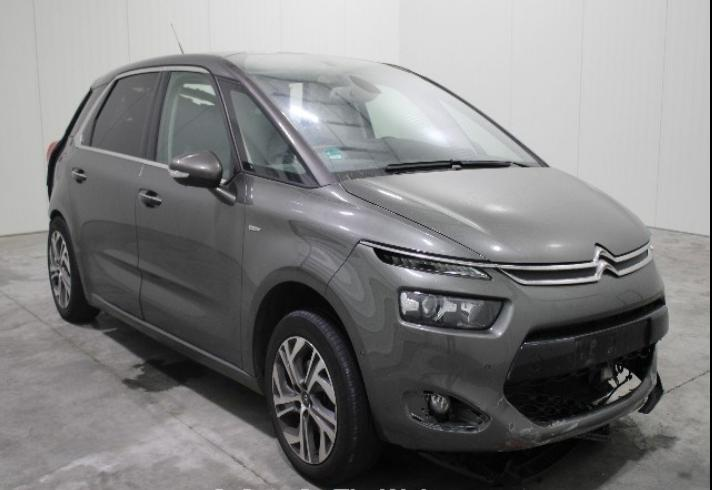Back-door: (66, 65, 165, 320)
Back-wheel: (47, 216, 100, 323)
Back-window: (91, 72, 158, 157)
Fender: (241, 174, 488, 374)
Front-bumper: (323, 242, 669, 452)
Front-door: (136, 64, 245, 370)
Front-wheel: (264, 310, 381, 489)
Front-window: (225, 84, 321, 185), (156, 71, 230, 180)
Grille: (504, 317, 652, 426)
Headlight: (400, 290, 504, 330), (373, 247, 491, 280)
Hood: (338, 167, 650, 262)
Mirror: (168, 149, 236, 204)
Quarter-panel: (49, 136, 89, 290)
Rocker-panel: (86, 288, 264, 395)
Roof: (91, 54, 236, 88)
Tail-light: (47, 142, 58, 164)
Windshield: (225, 53, 545, 182)
